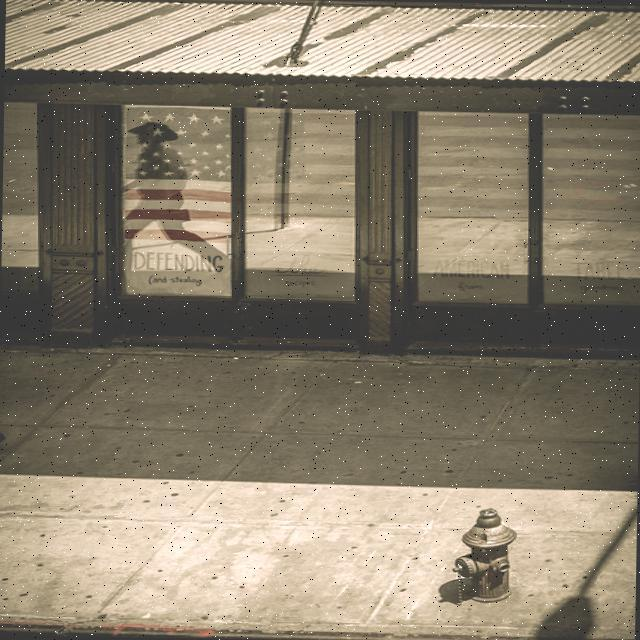fire_hydrant: (451, 506, 517, 606)
